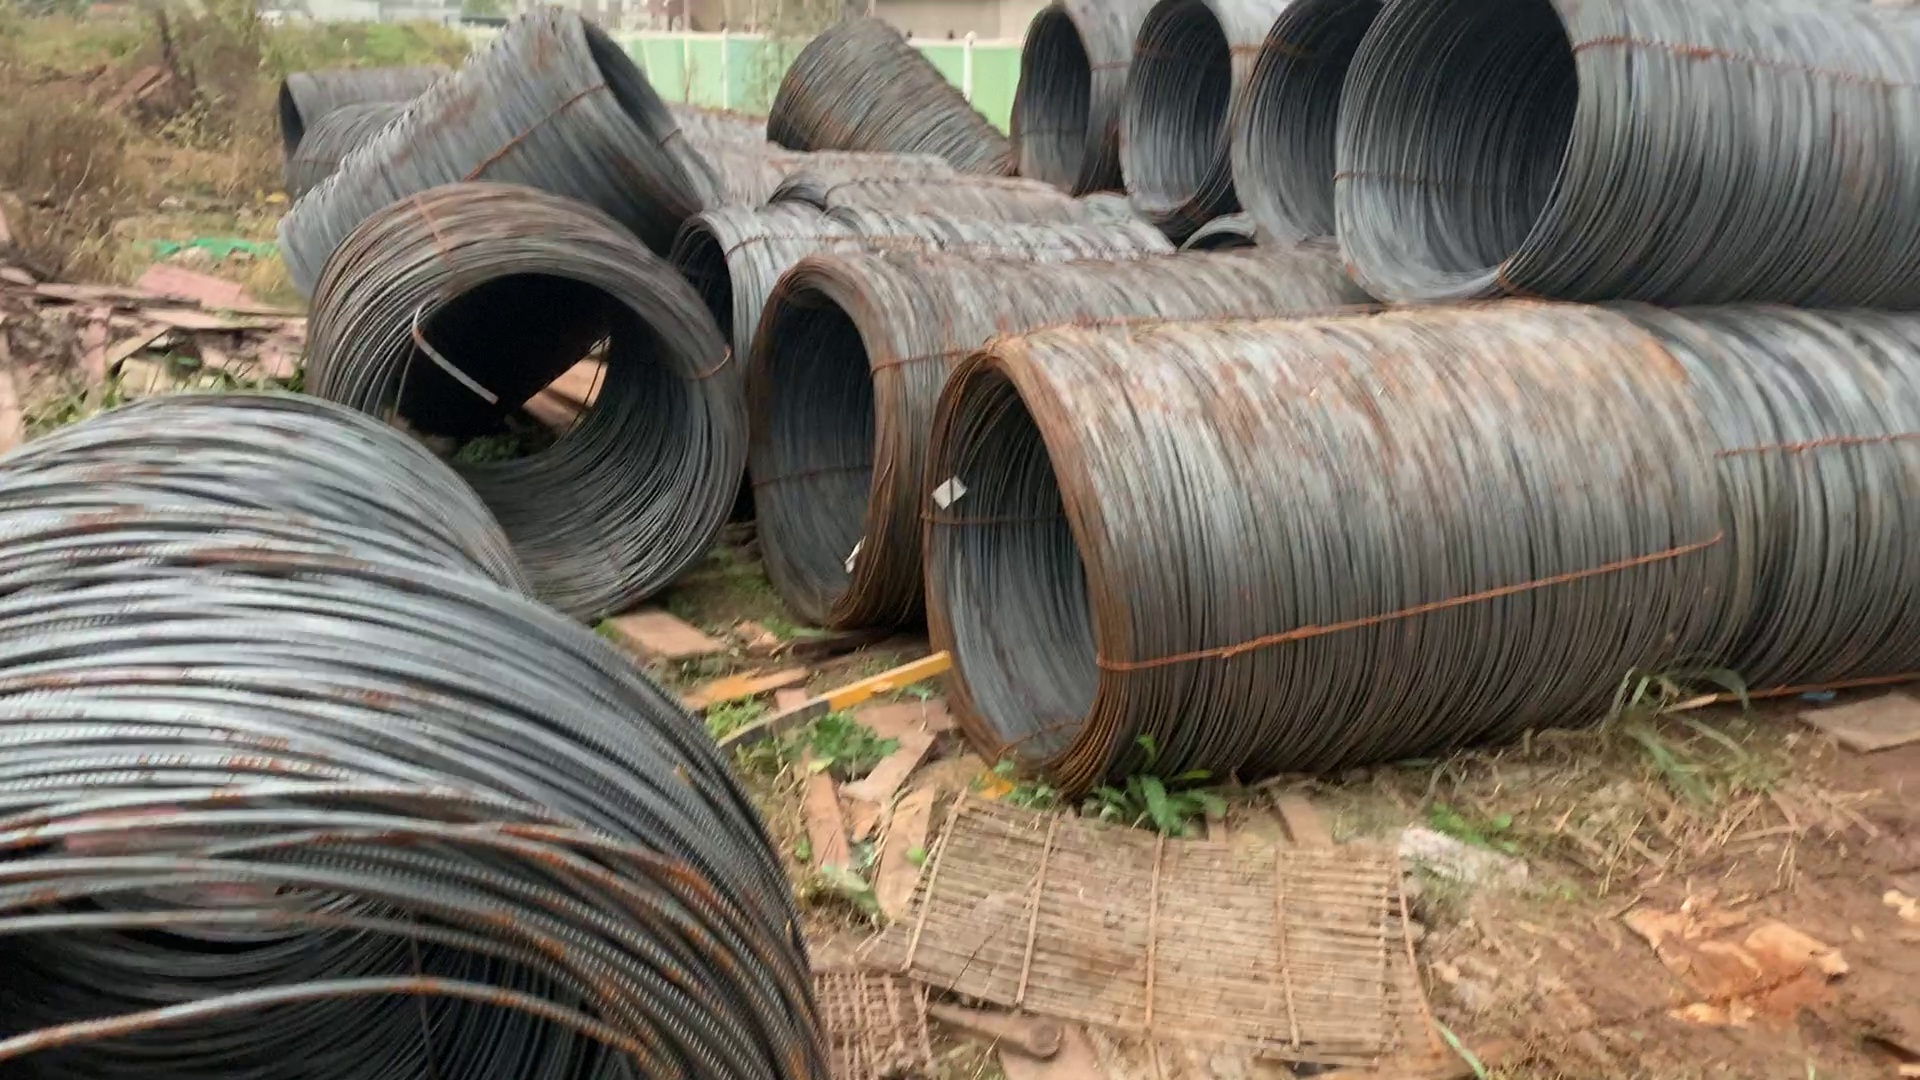coil: (1, 757, 847, 1073), (338, 247, 752, 611), (920, 349, 1146, 793), (1341, 1, 1593, 310), (746, 249, 907, 629), (554, 4, 721, 210), (1113, 1, 1249, 247), (1246, 1, 1367, 257), (1005, 1, 1106, 199), (257, 63, 328, 167)
